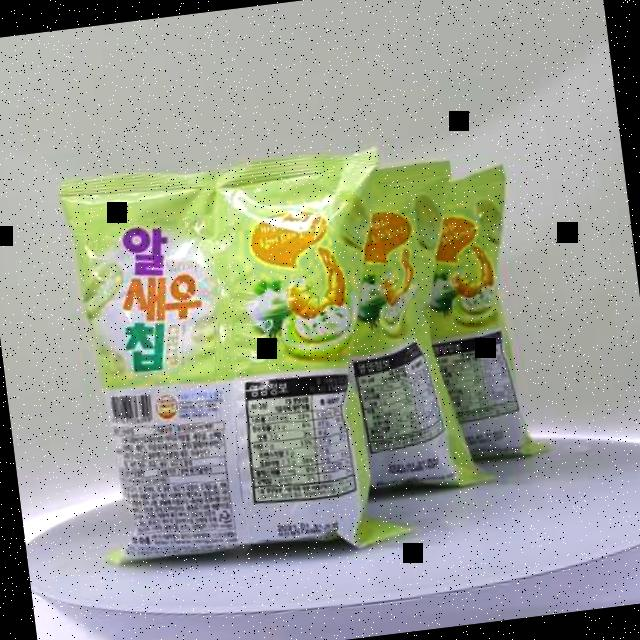snack_bag: (48, 114, 575, 599)
